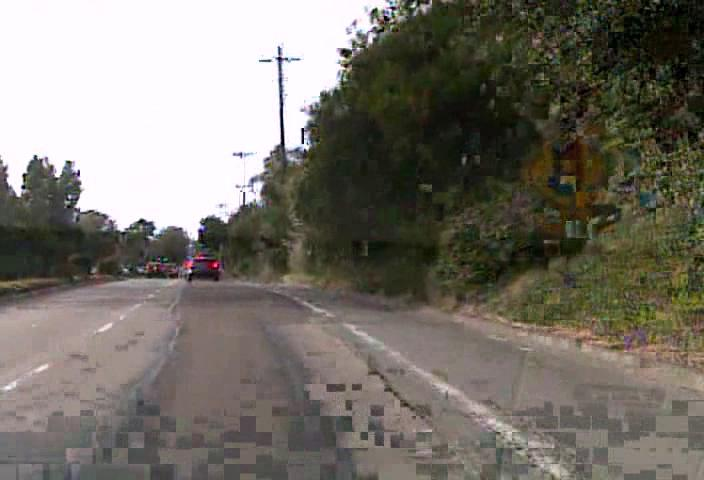signalAhead: (520, 131, 609, 213)
